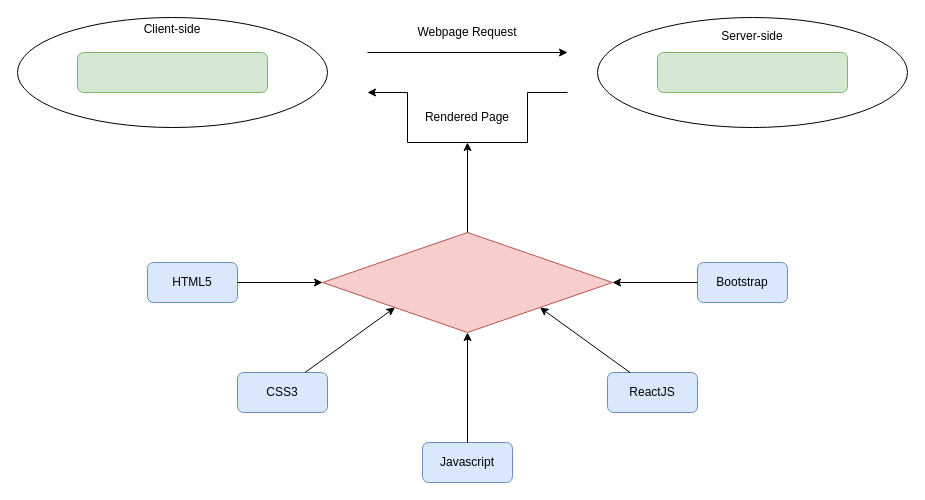
The diagram is 925 pixels wide and 500 high, and some of its shapes have lost their labels. Here are the shapes that lost their labels. From the top down, the centre of each, then its label:
At point 172,72: "Web Browser".
At point 752,72: "Web Server".
At point 467,282: "Rendering Engine".
